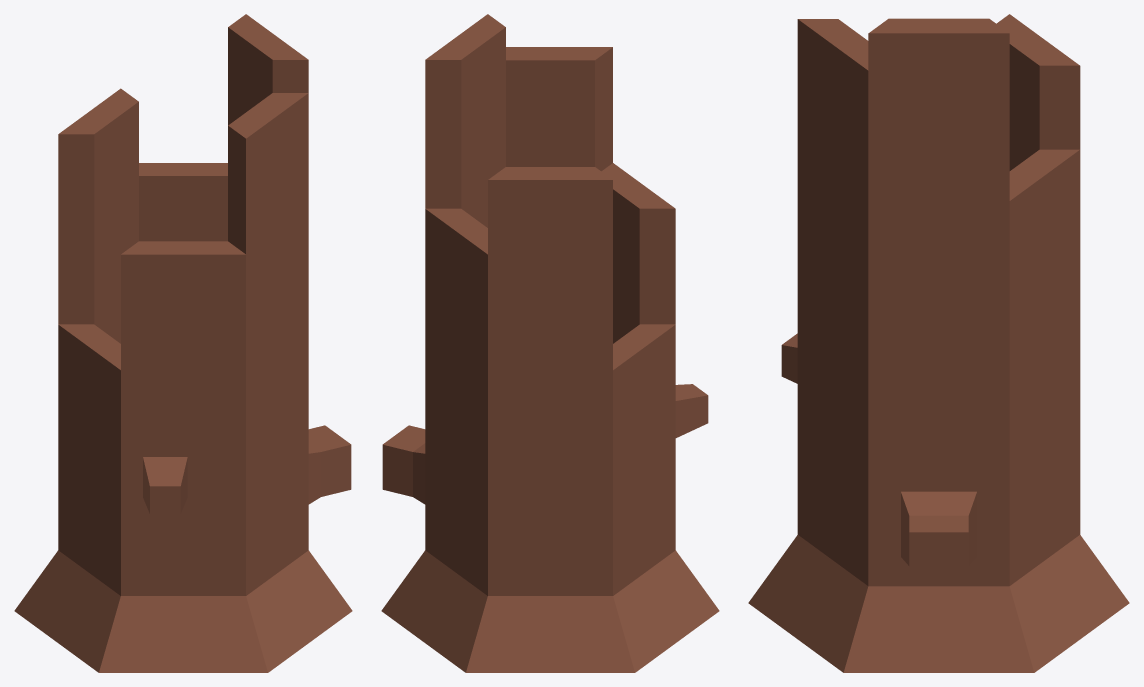
The model's file is stump_oldTall.glb.
3 renders of one model, left to right at view 1: azimuth 30°, elevation 25°; view 2: azimuth 150°, elevation 25°; view 3: azimuth 270°, elevation 25°, orthographic. The views are drawn at different scales.
Visible parts, largest first — view 1: stump_oldTall; view 2: stump_oldTall; view 3: stump_oldTall.
Part boxes in pixels (x1,y1,x2,y2): stump_oldTall: [14, 14, 352, 672]; stump_oldTall: [381, 14, 719, 672]; stump_oldTall: [748, 14, 1129, 672].
Bounding box in the file's own units: 0.3565 × 0.6665 × 0.371.
